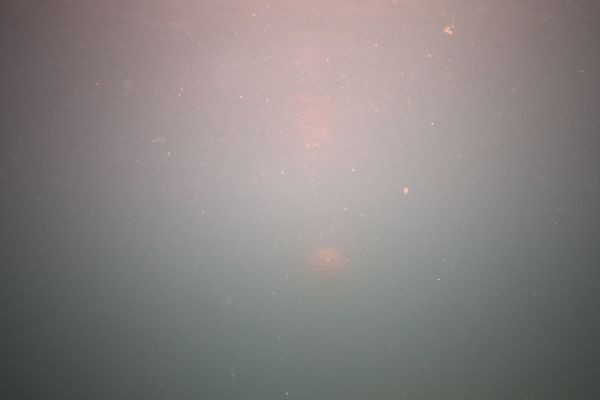buoy: (314, 251, 342, 282)
